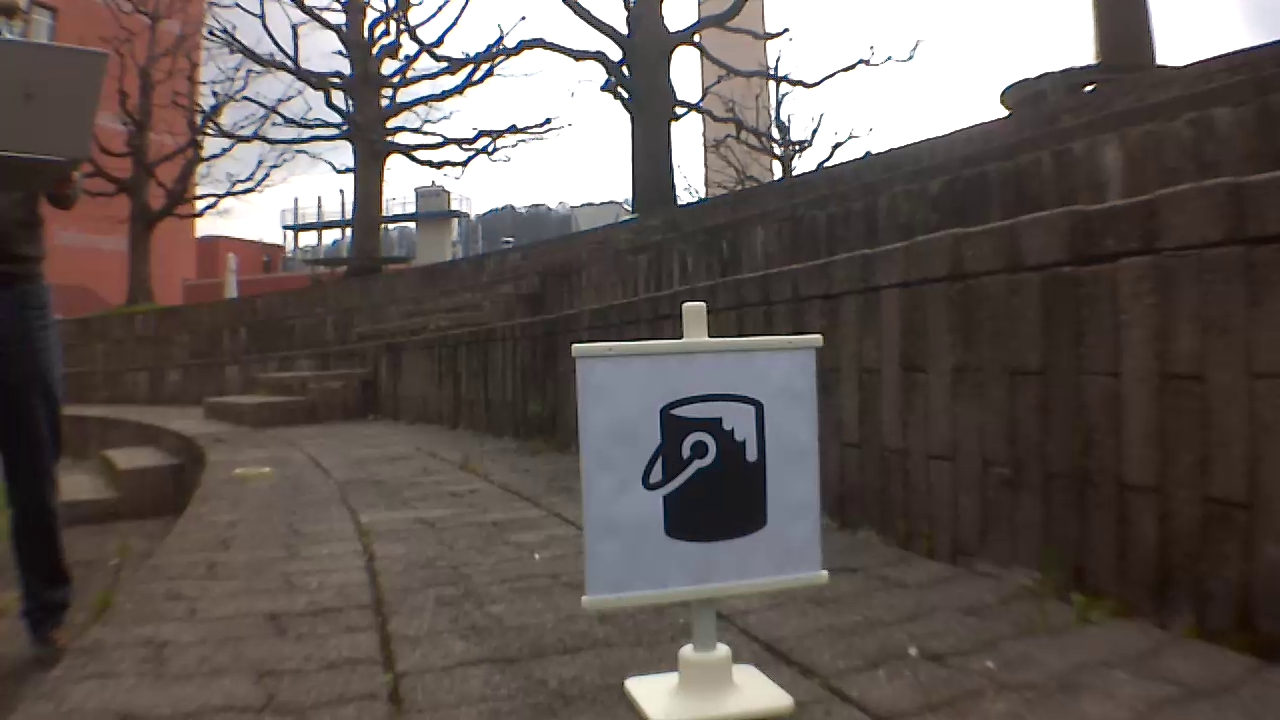bucket: (640, 386, 764, 553)
